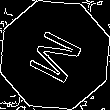M_SE: (22, 23, 88, 87)
